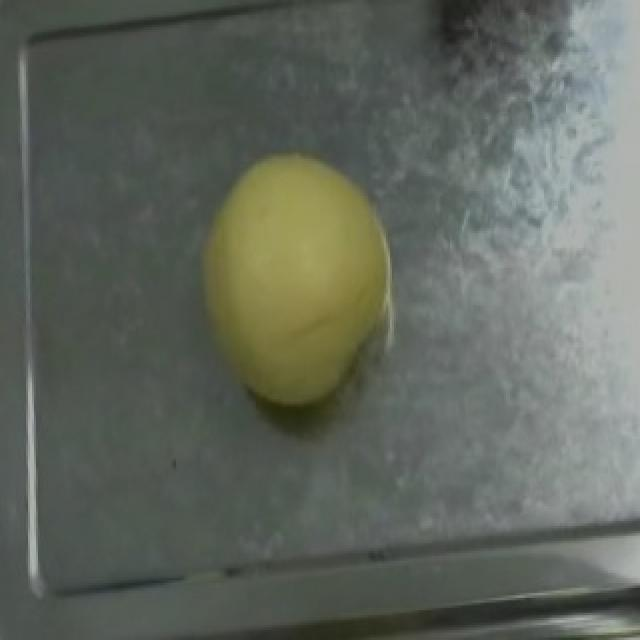Fruit: (182, 136, 412, 422)
